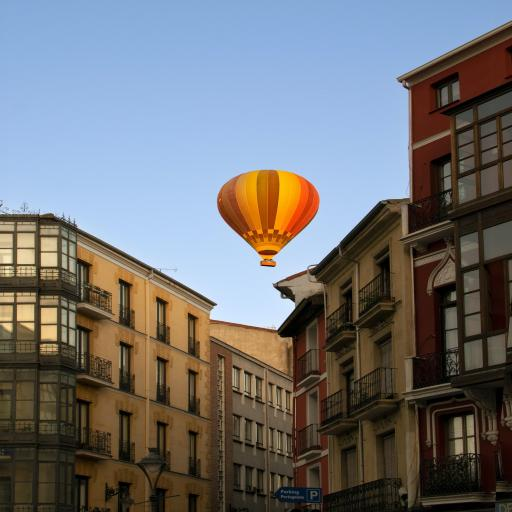hot air ballon: (215, 169, 322, 267)
